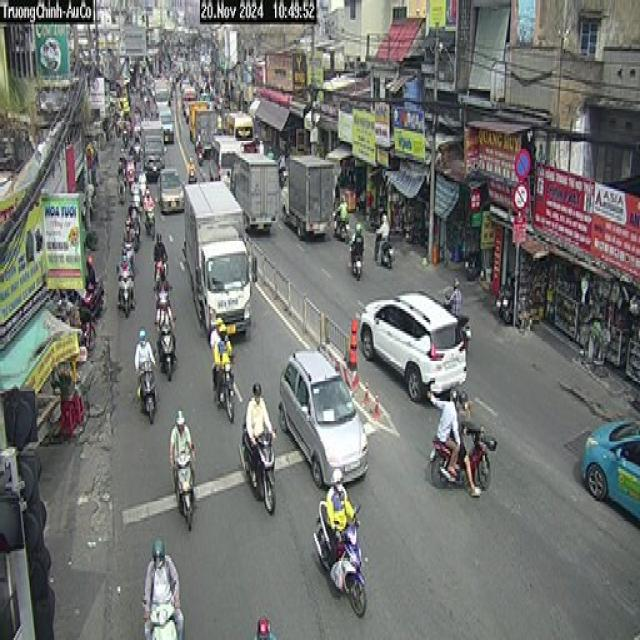car: (277, 342, 373, 497), (359, 290, 471, 402), (578, 409, 640, 525)
motorcycle: (312, 495, 369, 621), (429, 418, 494, 501), (238, 416, 285, 516), (170, 451, 202, 542), (214, 360, 238, 427), (136, 358, 159, 425), (145, 602, 184, 640)
person: (144, 532, 182, 606), (325, 463, 356, 537), (169, 407, 198, 459), (438, 388, 462, 449), (244, 380, 272, 432), (458, 389, 477, 460), (214, 318, 232, 372), (131, 328, 153, 364)
truck: (180, 173, 258, 338), (281, 151, 334, 240), (230, 151, 283, 231)
